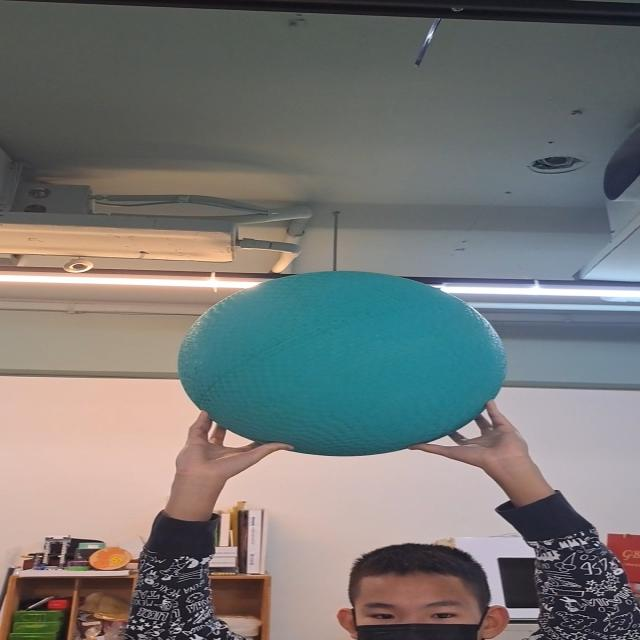ALGAE: (180, 270, 508, 455)
